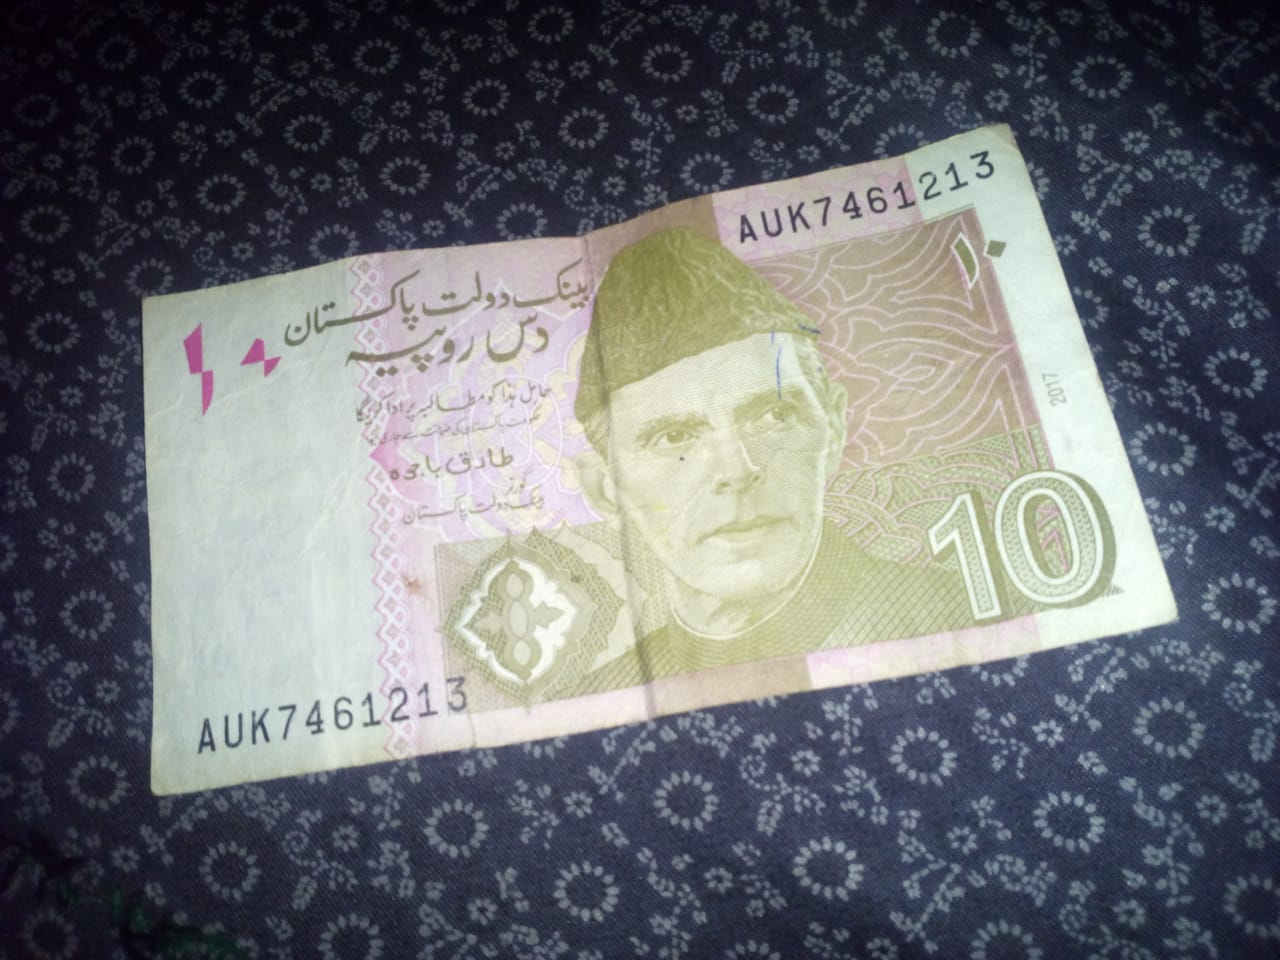10 rupee: (107, 98, 1202, 805)
